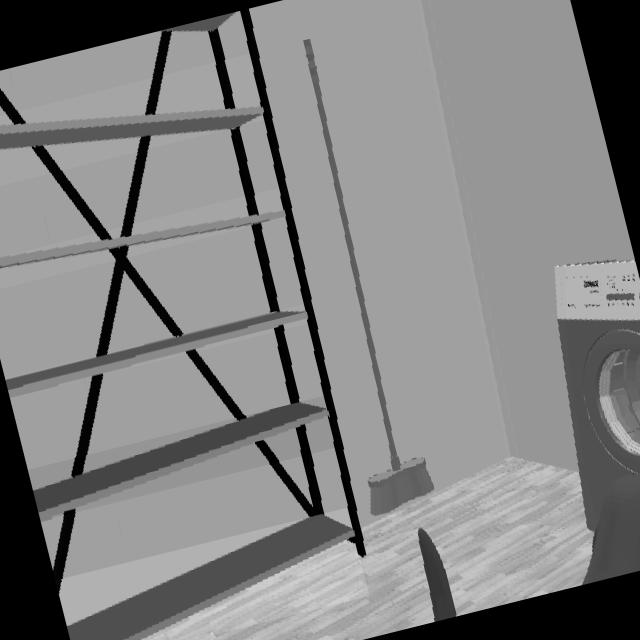shelf: (67, 514, 353, 640), (33, 403, 327, 520), (5, 310, 305, 397), (0, 210, 284, 269), (0, 109, 262, 150)
